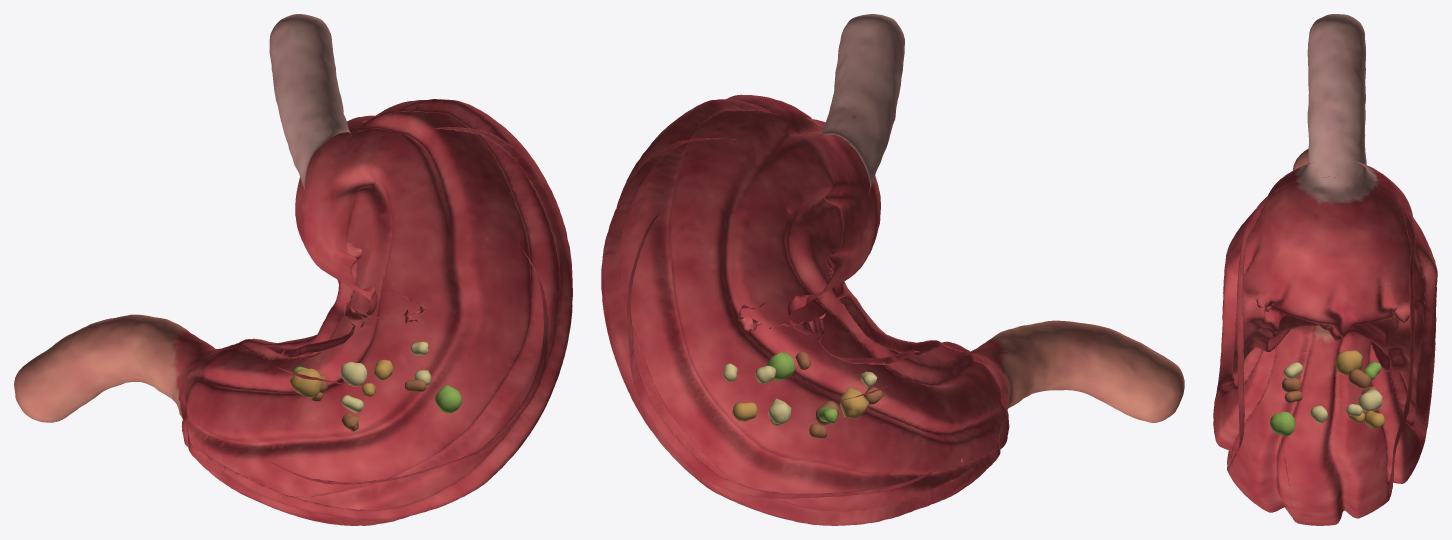
The model's file is in_stomach.glb.
3 renders of one model, left to right at view 1: azimuth 30°, elevation 25°; view 2: azimuth 150°, elevation 25°; view 3: azimuth 270°, elevation 25°, orthographic. The views are drawn at different scales.
Parts seen in each view (by area): view 1: stomach_in, food_chunks; view 2: stomach_in, food_chunks; view 3: stomach_in, food_chunks.
Boxes of the visible parts, box(x1,y1,x2,y2) form: stomach_in: box(14, 14, 572, 525); food_chunks: box(290, 341, 462, 431); stomach_in: box(601, 14, 1184, 525); food_chunks: box(723, 351, 883, 438); stomach_in: box(1213, 14, 1437, 525); food_chunks: box(1270, 350, 1384, 436).
Size of the model in its own units: 18.6 by 16.54 by 7.32.
